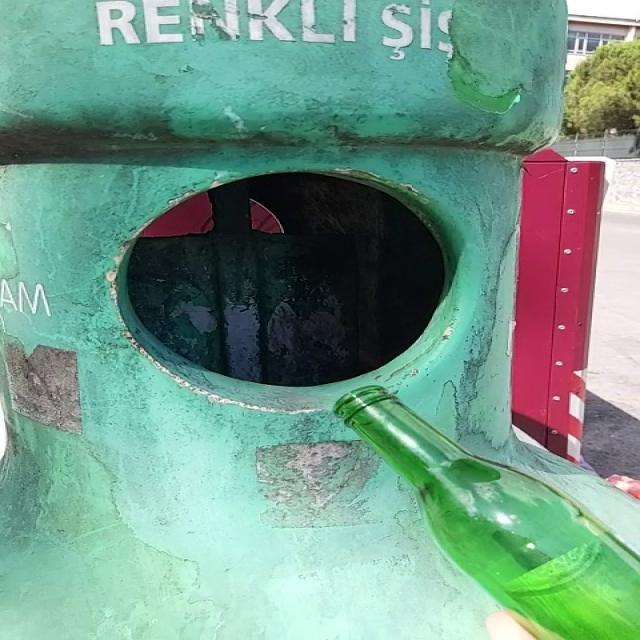glass: (335, 387, 640, 640)
